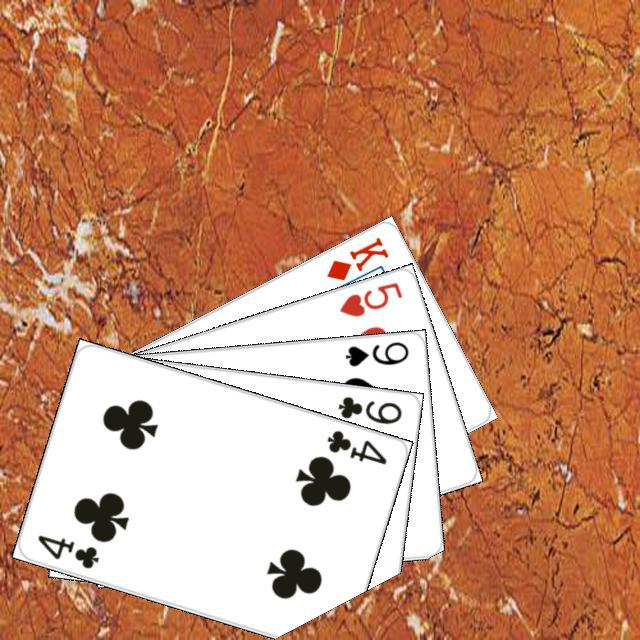4c: (32, 530, 101, 571), (321, 425, 389, 466)
5h: (334, 277, 404, 319)
9c: (333, 391, 404, 426)
9s: (340, 336, 411, 368)
Kd: (321, 232, 391, 283)
